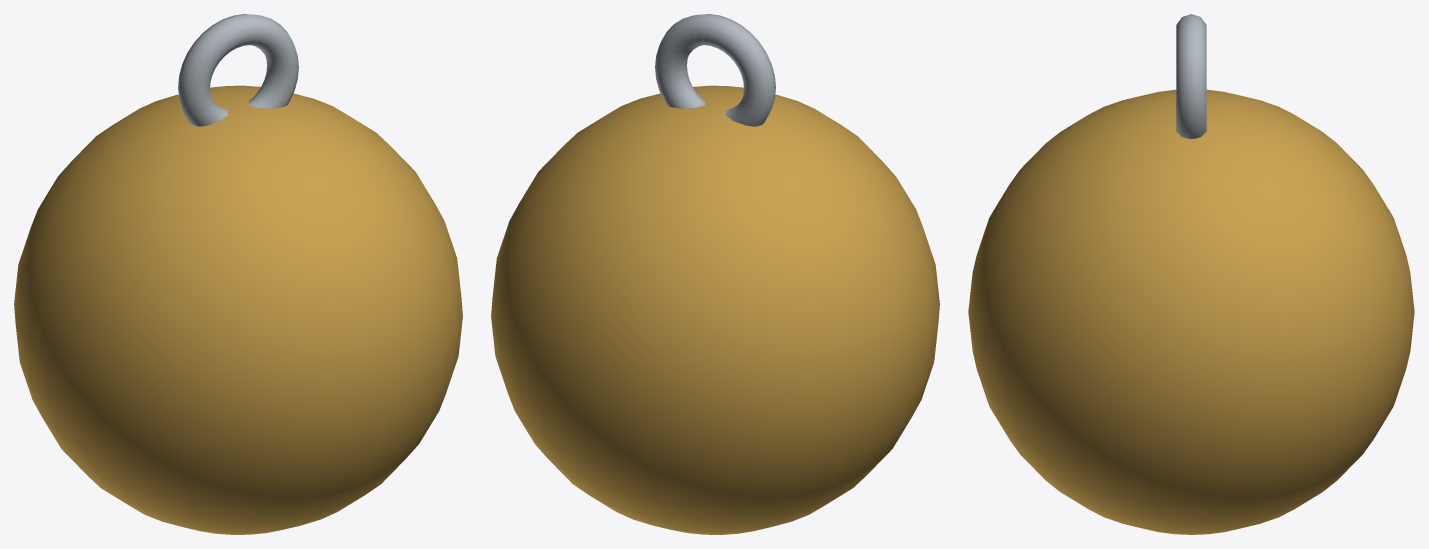
Rendered from Pendulum_Bob.fbx.
3 views of the same model, side by side, from view 1: azimuth 30°, elevation 25°; view 2: azimuth 150°, elevation 25°; view 3: azimuth 270°, elevation 25° (orthographic).
Visible parts, largest first — view 1: BobSphere, BobEyelet; view 2: BobSphere, BobEyelet; view 3: BobSphere, BobEyelet.
Boxes of the visible parts, bbox=[...] form: BobSphere: bbox=[14, 85, 462, 534]; BobEyelet: bbox=[178, 14, 298, 126]; BobSphere: bbox=[491, 85, 939, 534]; BobEyelet: bbox=[655, 14, 775, 126]; BobSphere: bbox=[968, 89, 1414, 534]; BobEyelet: bbox=[1176, 14, 1206, 139].
Size of the model in its own units: 0.07 by 0.0855 by 0.07.
